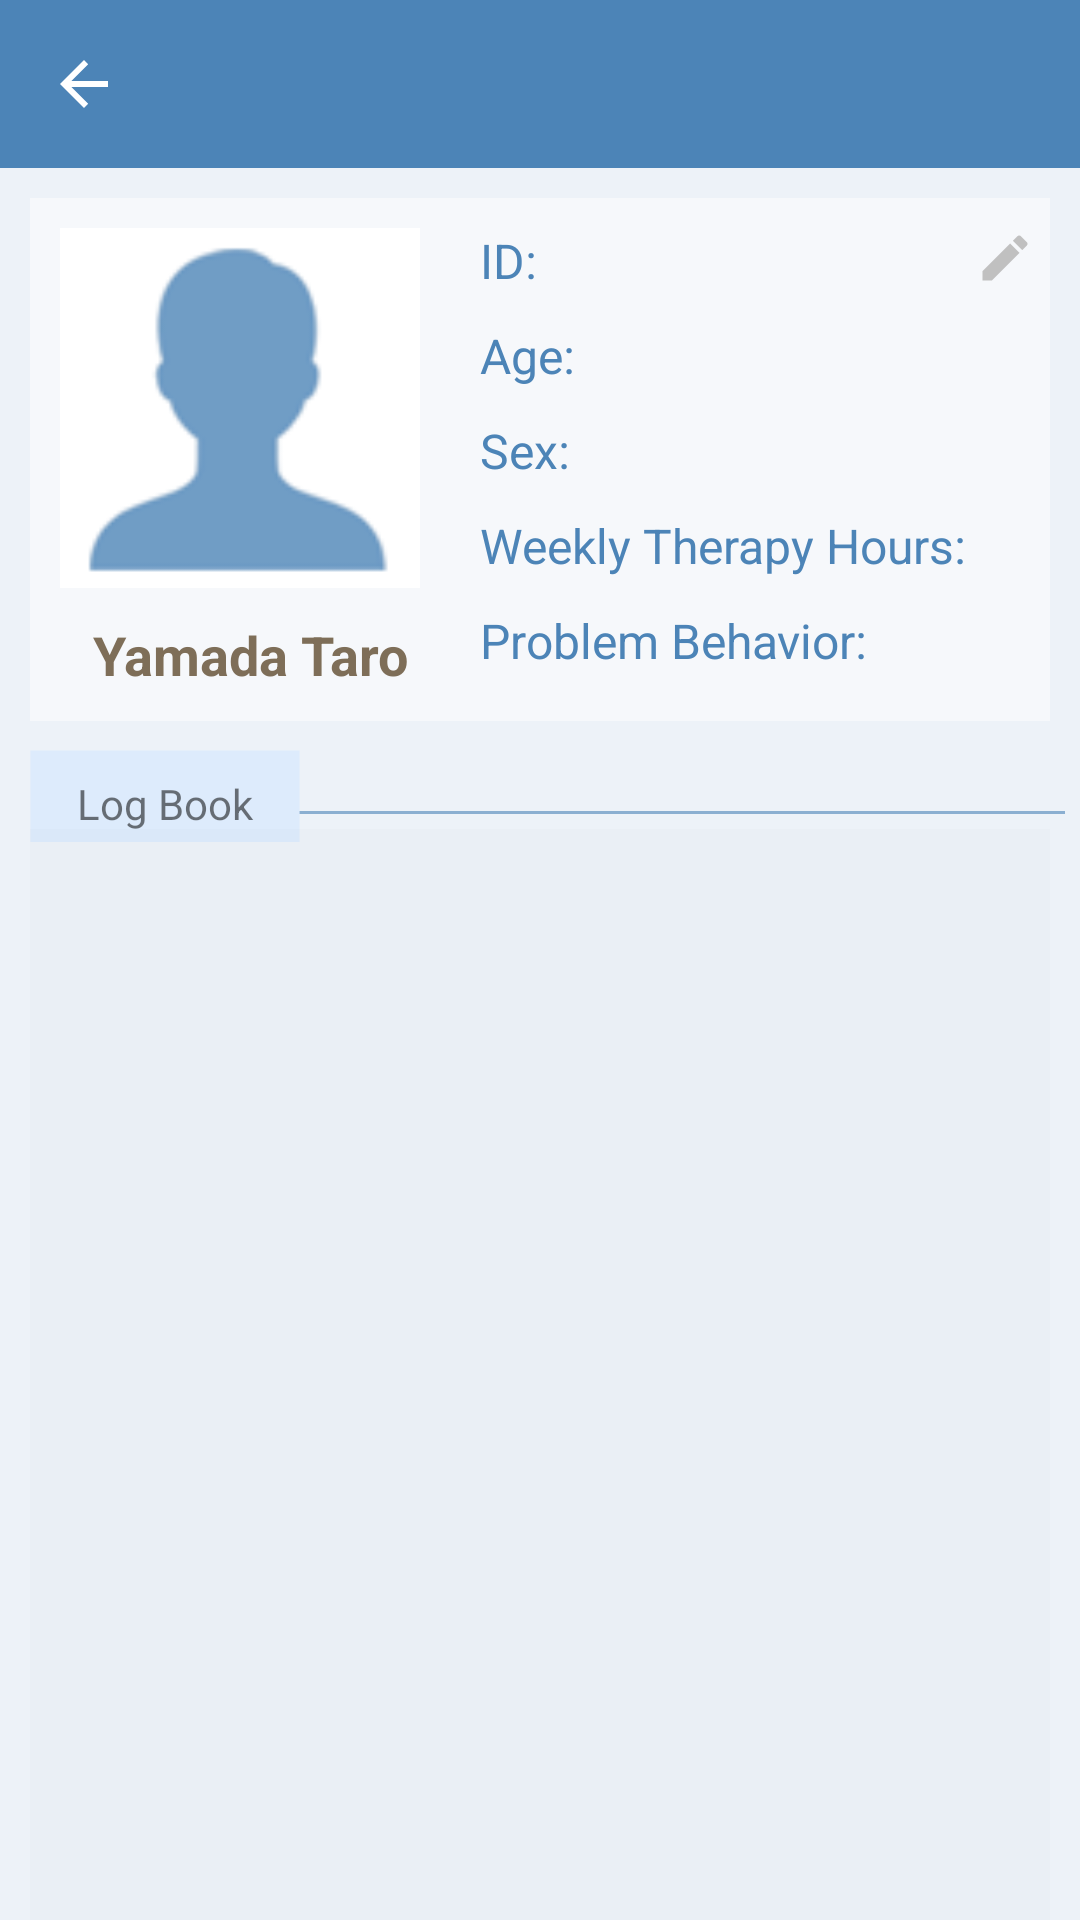

Icon bounding boxes for this 1080×1920 phone screenshot, format (x1, y1, x2, y2):
create: (982, 235, 1028, 281)
